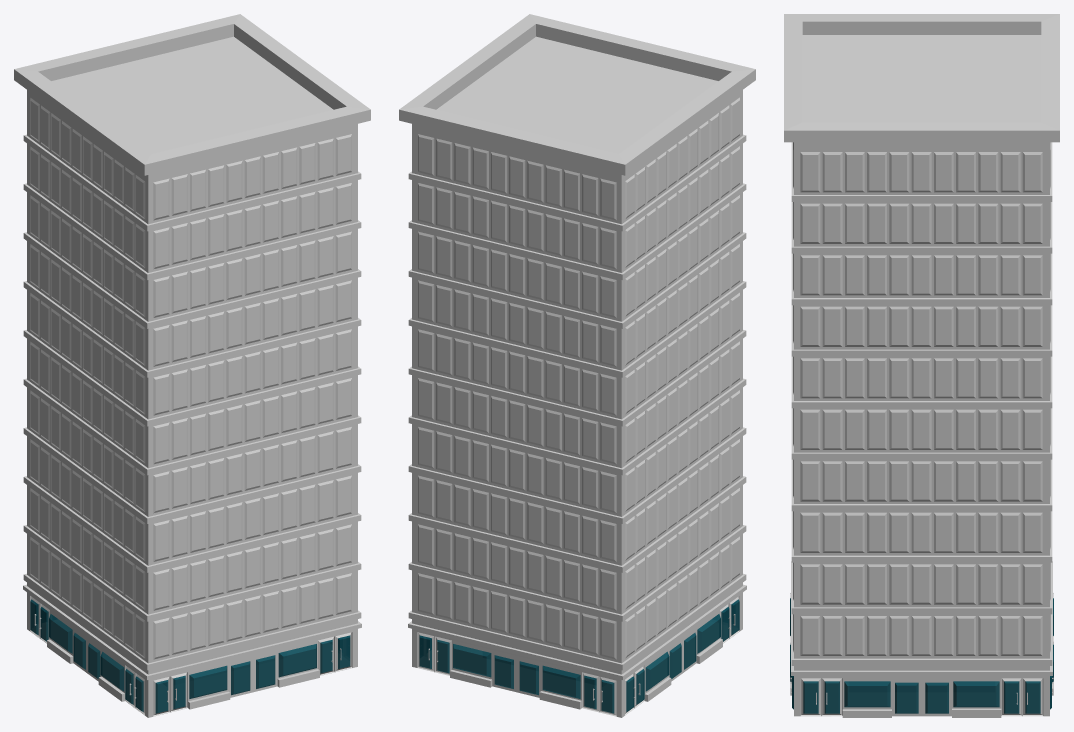
Rendered from building_office_four_sided_02_medium.fbx.
3 views of the same model, side by side, from view 1: azimuth 30°, elevation 25°; view 2: azimuth 150°, elevation 25°; view 3: azimuth 270°, elevation 25° (orthographic). The views are drawn at different scales.
Parts seen in each view (by area): view 1: building_office_four_sided_02_medium, building_office_four_sided_02_base_glass.002; view 2: building_office_four_sided_02_medium, building_office_four_sided_02_base_glass.002; view 3: building_office_four_sided_02_medium, building_office_four_sided_02_base_glass.002.
Part boxes in pixels (box(x1,y1,x2,y2)): building_office_four_sided_02_medium: box(14, 14, 370, 717); building_office_four_sided_02_base_glass.002: box(30, 599, 350, 713); building_office_four_sided_02_medium: box(399, 14, 755, 717); building_office_four_sided_02_base_glass.002: box(419, 599, 739, 713); building_office_four_sided_02_medium: box(784, 14, 1059, 717); building_office_four_sided_02_base_glass.002: box(790, 598, 1053, 713).
Bounding box in the file's own units: 1941 × 4583 × 1941.
